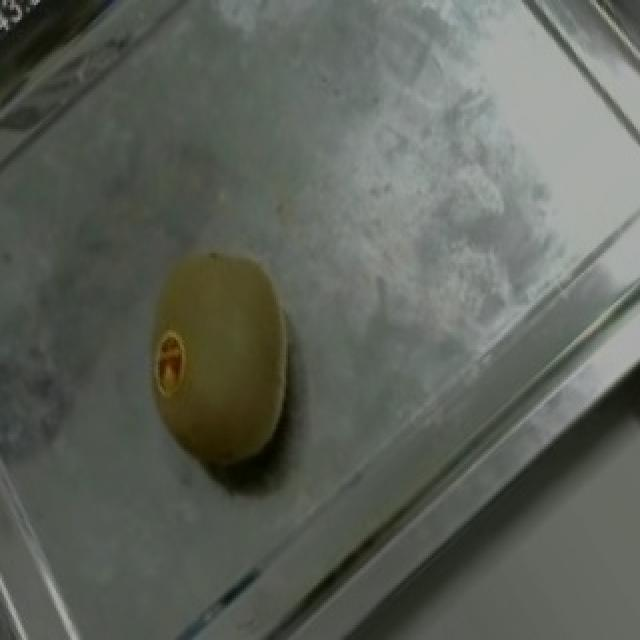Fruit: (106, 211, 336, 511)
